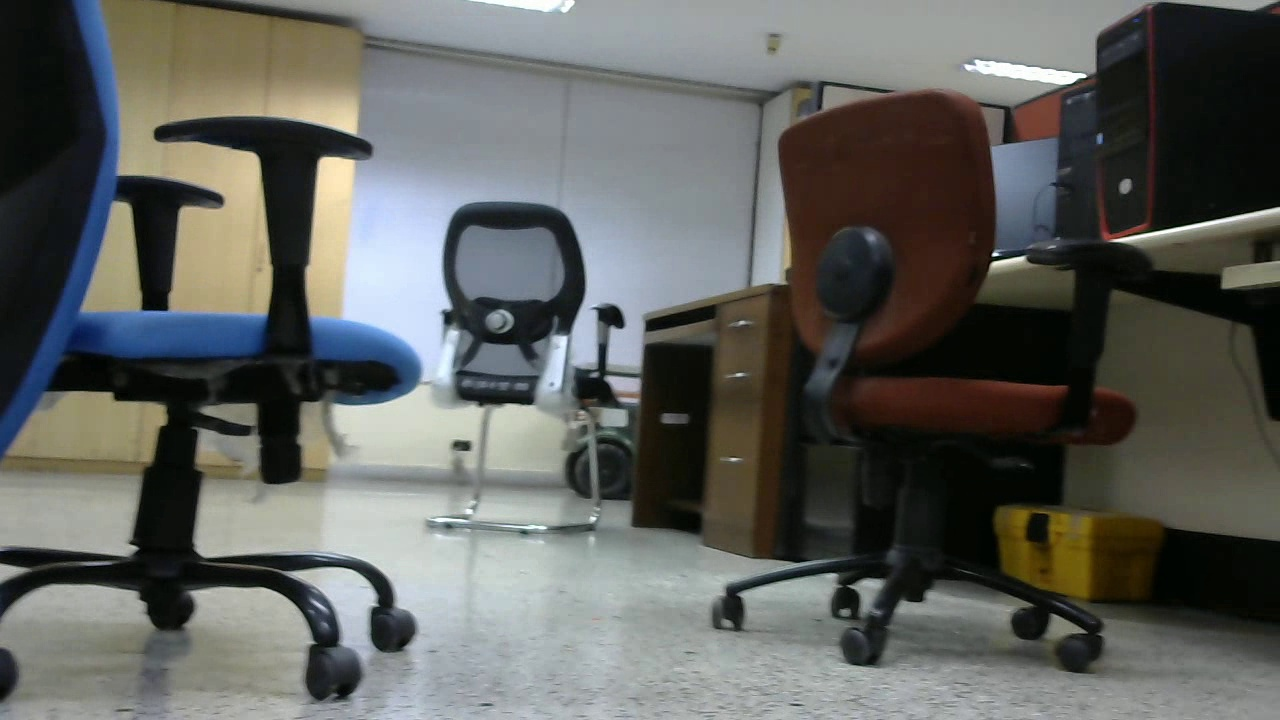chair: (15, 69, 426, 700), (706, 82, 1104, 673), (427, 191, 603, 531)
